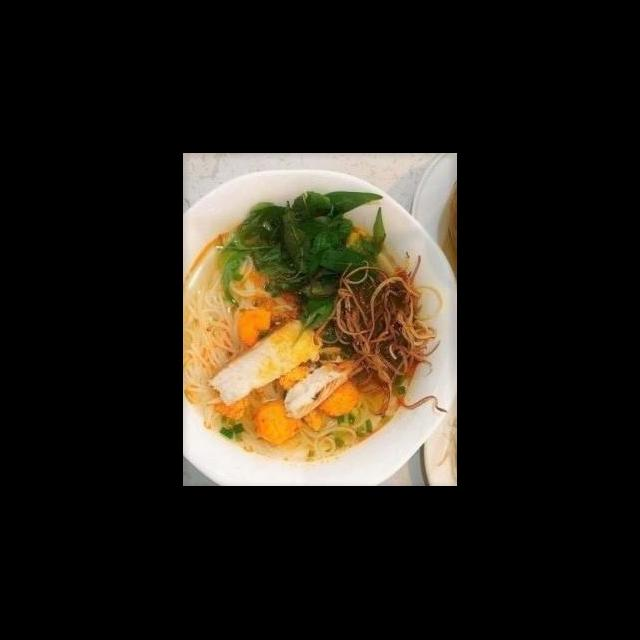bun: (184, 246, 251, 428), (297, 396, 373, 462)
bun ca: (183, 167, 450, 481)
ca: (207, 310, 326, 412), (278, 348, 363, 424)
rau ram: (215, 186, 388, 332), (288, 292, 340, 349)
tom: (250, 396, 305, 448), (234, 306, 278, 351), (318, 376, 362, 421)
